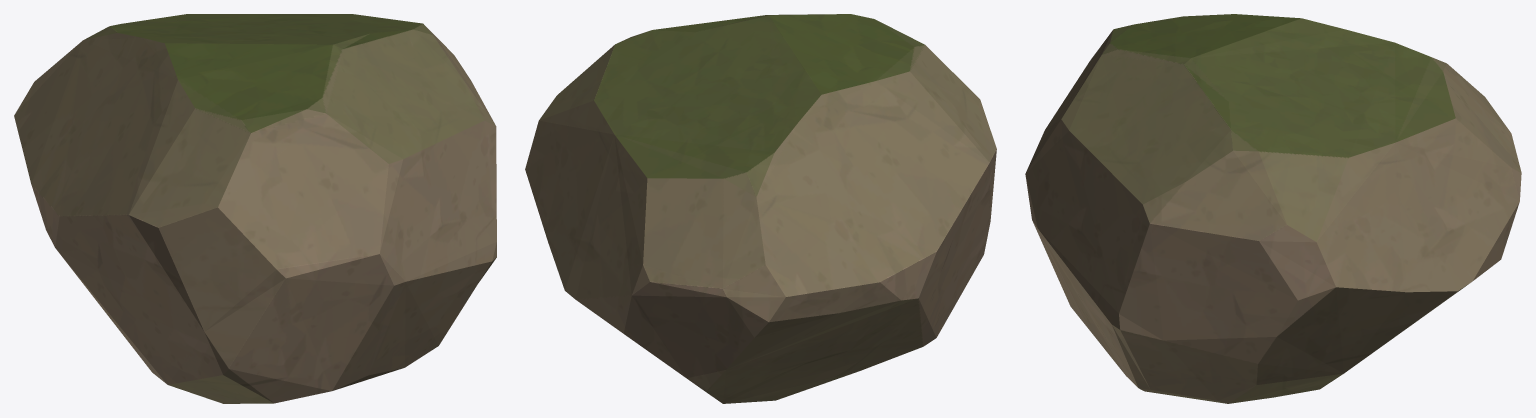
Rendered from SM_Env_Rock_Round_01.glb.
The picture shows the model from 3 angles, left to right: view 1: azimuth 30°, elevation 25°; view 2: azimuth 150°, elevation 25°; view 3: azimuth 270°, elevation 25°; orthographic projection. The views are drawn at different scales.
Parts seen in each view (by area): view 1: SM_Env_Rock_Round_01; view 2: SM_Env_Rock_Round_01; view 3: SM_Env_Rock_Round_01.
Boxes of the visible parts, x1=… form: SM_Env_Rock_Round_01: x1=14, y1=14, x2=496, y2=403; SM_Env_Rock_Round_01: x1=525, y1=14, x2=996, y2=403; SM_Env_Rock_Round_01: x1=1025, y1=14, x2=1521, y2=403.
Bounding box in the file's own units: 2.87 × 2.3 × 3.14.
1 material, 1 textured.
